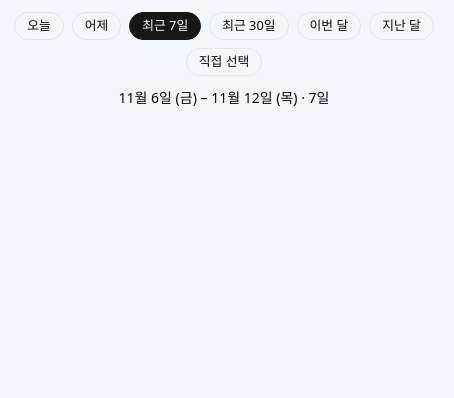
Test: quick chips: one tap fills a common range
Expected: the radio button labelled "최근 7일" is checked, [129, 12, 201, 40]
Expected: the message reads "11월 6일 (금) – 11월 12일 (목) · 7일", [118, 88, 329, 107]
Click the radio button labelled "지난 달" at x=402, y=26, box [369, 12, 434, 40]
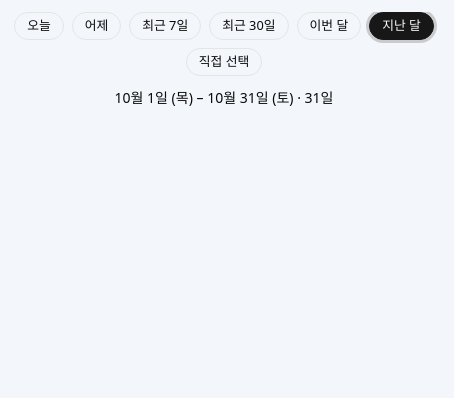
Expected: the message reads "10월 1일 (목) – 10월 31일 (토) · 31일", [114, 88, 333, 107]
Click the radio button labelled "직접 선택" at x=224, y=62, box [186, 48, 262, 76]
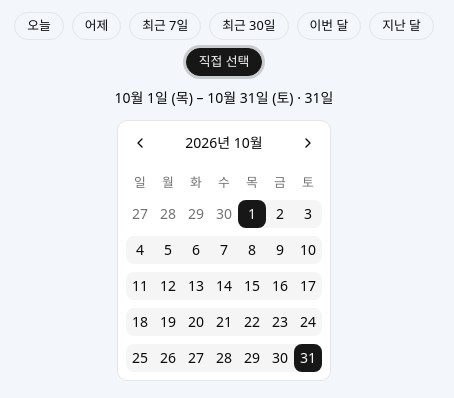
Expected: the table is shown, [126, 173, 322, 372]
